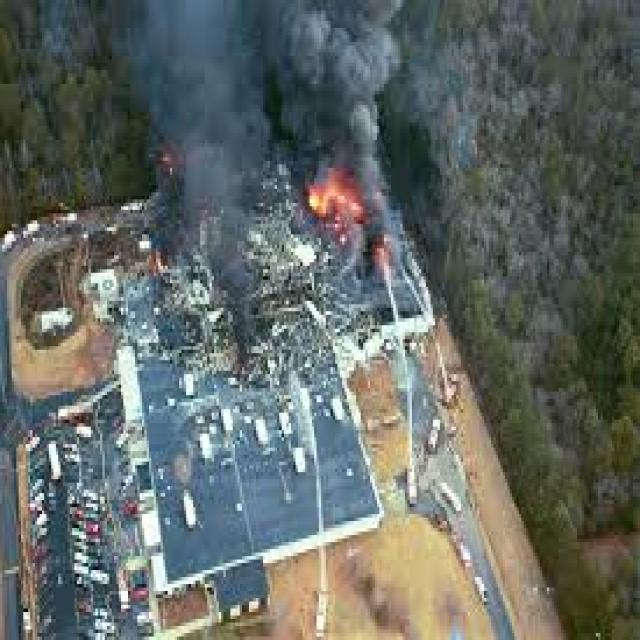Fire: (302, 156, 376, 264)
Smoke: (100, 0, 262, 347), (259, 0, 405, 151)
